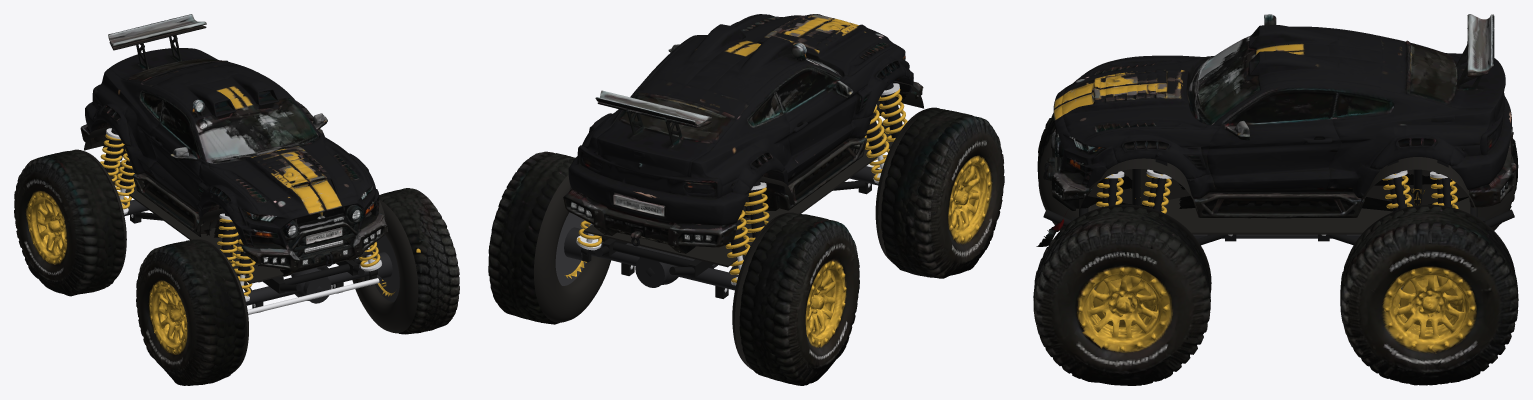
File: monster_truck_stealth_gold.glb
3 renders of one model, left to right at view 1: azimuth 30°, elevation 25°; view 2: azimuth 150°, elevation 25°; view 3: azimuth 270°, elevation 25°, orthographic. The views are drawn at different scales.
Parts seen in each view (by area): view 1: Body, Wheel_FL, Wheel_RL, Wheel_FR, Chassis, Axle_F, Shock_RL_1_Spring, Shock_RL_2_Spring, Shock_FL_1_Spring, Shock_RL_2_Body, Shock_FL_2_Spring, Shock_FL_2_Body; view 2: Body, Wheel_FL, Wheel_RL, Wheel_RR, Chassis, Axle_R, Shock_FL_2_Spring, Shock_FL_1_Spring, Shock_RL_2_Spring, Shock_RL_1_Spring, Shock_FL_1_Body, Shock_RL_1_Body; view 3: Body, Wheel_FR, Wheel_RR, Chassis, Wheel_FL, Wheel_RL, Shock_FR_2_Body, Shock_RR_1_Body, Shock_RR_2_Body, Shock_FR_1_Body, Shock_FR_2_Spring.
Part boxes in pixels (x1,y1,x2,y2): Body: [80, 14, 387, 276]; Wheel_FL: [136, 239, 248, 385]; Wheel_RL: [14, 149, 126, 296]; Wheel_FR: [352, 188, 459, 334]; Chassis: [110, 126, 372, 293]; Axle_F: [243, 251, 392, 314]; Shock_RL_1_Spring: [114, 149, 135, 209]; Shock_RL_2_Spring: [100, 134, 124, 185]; Shock_FL_1_Spring: [234, 239, 255, 296]; Shock_RL_2_Body: [104, 128, 124, 176]; Shock_FL_2_Spring: [217, 218, 238, 266]; Shock_FL_2_Body: [219, 212, 239, 261]; Body: [563, 14, 923, 253]; Wheel_FL: [875, 107, 1004, 278]; Wheel_RL: [732, 212, 859, 385]; Wheel_RR: [488, 151, 611, 324]; Chassis: [583, 80, 893, 277]; Axle_R: [564, 227, 738, 298]; Shock_FL_2_Spring: [865, 105, 889, 181]; Shock_FL_1_Spring: [878, 88, 907, 149]; Shock_RL_2_Spring: [725, 210, 750, 282]; Shock_RL_1_Spring: [744, 187, 769, 241]; Shock_FL_1_Body: [879, 82, 902, 138]; Shock_RL_1_Body: [745, 180, 766, 237]; Body: [1044, 14, 1516, 218]; Wheel_FR: [1033, 204, 1211, 385]; Wheel_RR: [1340, 204, 1518, 385]; Chassis: [1043, 159, 1514, 241]; Wheel_FL: [1037, 113, 1090, 230]; Wheel_RL: [1477, 135, 1518, 230]; Shock_FR_2_Body: [1146, 169, 1171, 211]; Shock_RR_1_Body: [1384, 170, 1407, 211]; Shock_RR_2_Body: [1430, 171, 1452, 207]; Shock_FR_1_Body: [1102, 171, 1124, 207]; Shock_FR_2_Spring: [1142, 174, 1171, 213].
Size of the model in its own units: 4 by 3.12 by 5.05.
Materials: 8 (1 with a texture image).
